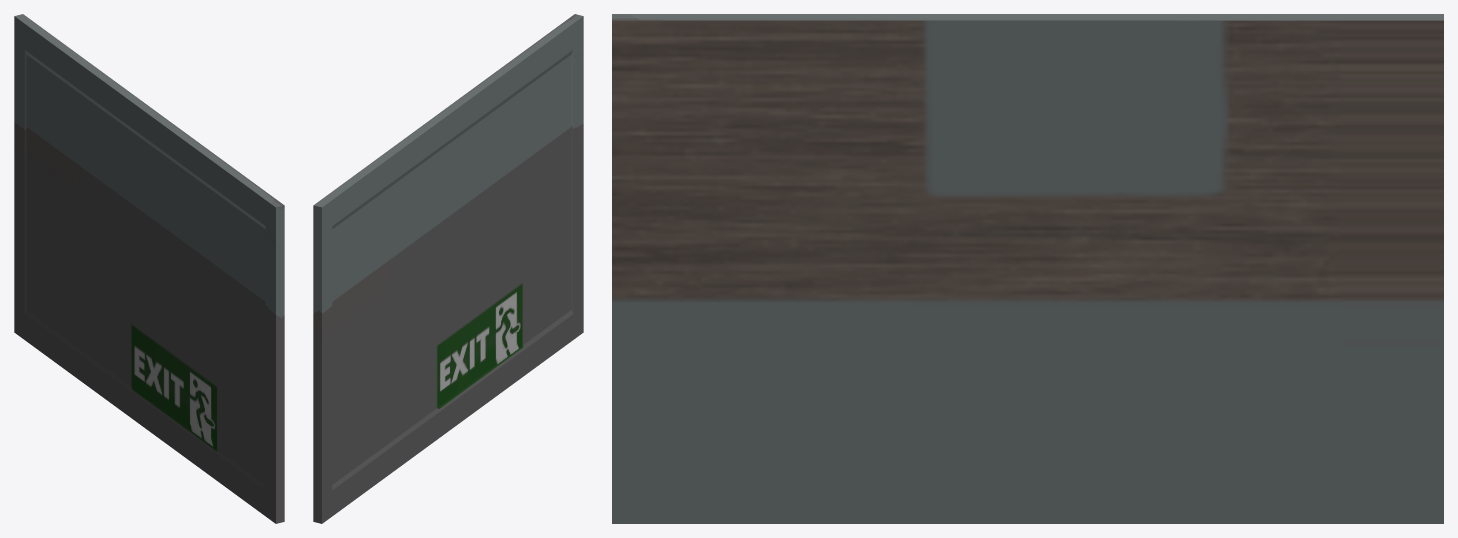
Rendered from MonitorSmall.FBX.
The picture shows the model from 3 angles, left to right: view 1: azimuth 30°, elevation 25°; view 2: azimuth 150°, elevation 25°; view 3: azimuth 270°, elevation 25°; orthographic projection. The views are drawn at different scales.
Visible parts, largest first — view 1: Box607; view 2: Box607; view 3: Box607.
Boxes of the visible parts, <box> form: Box607: <box>14,14,284,523</box>; Box607: <box>313,14,583,523</box>; Box607: <box>612,14,1443,523</box>.
Size of the model in its own units: 0.1178 by 4.1 by 6.14.
